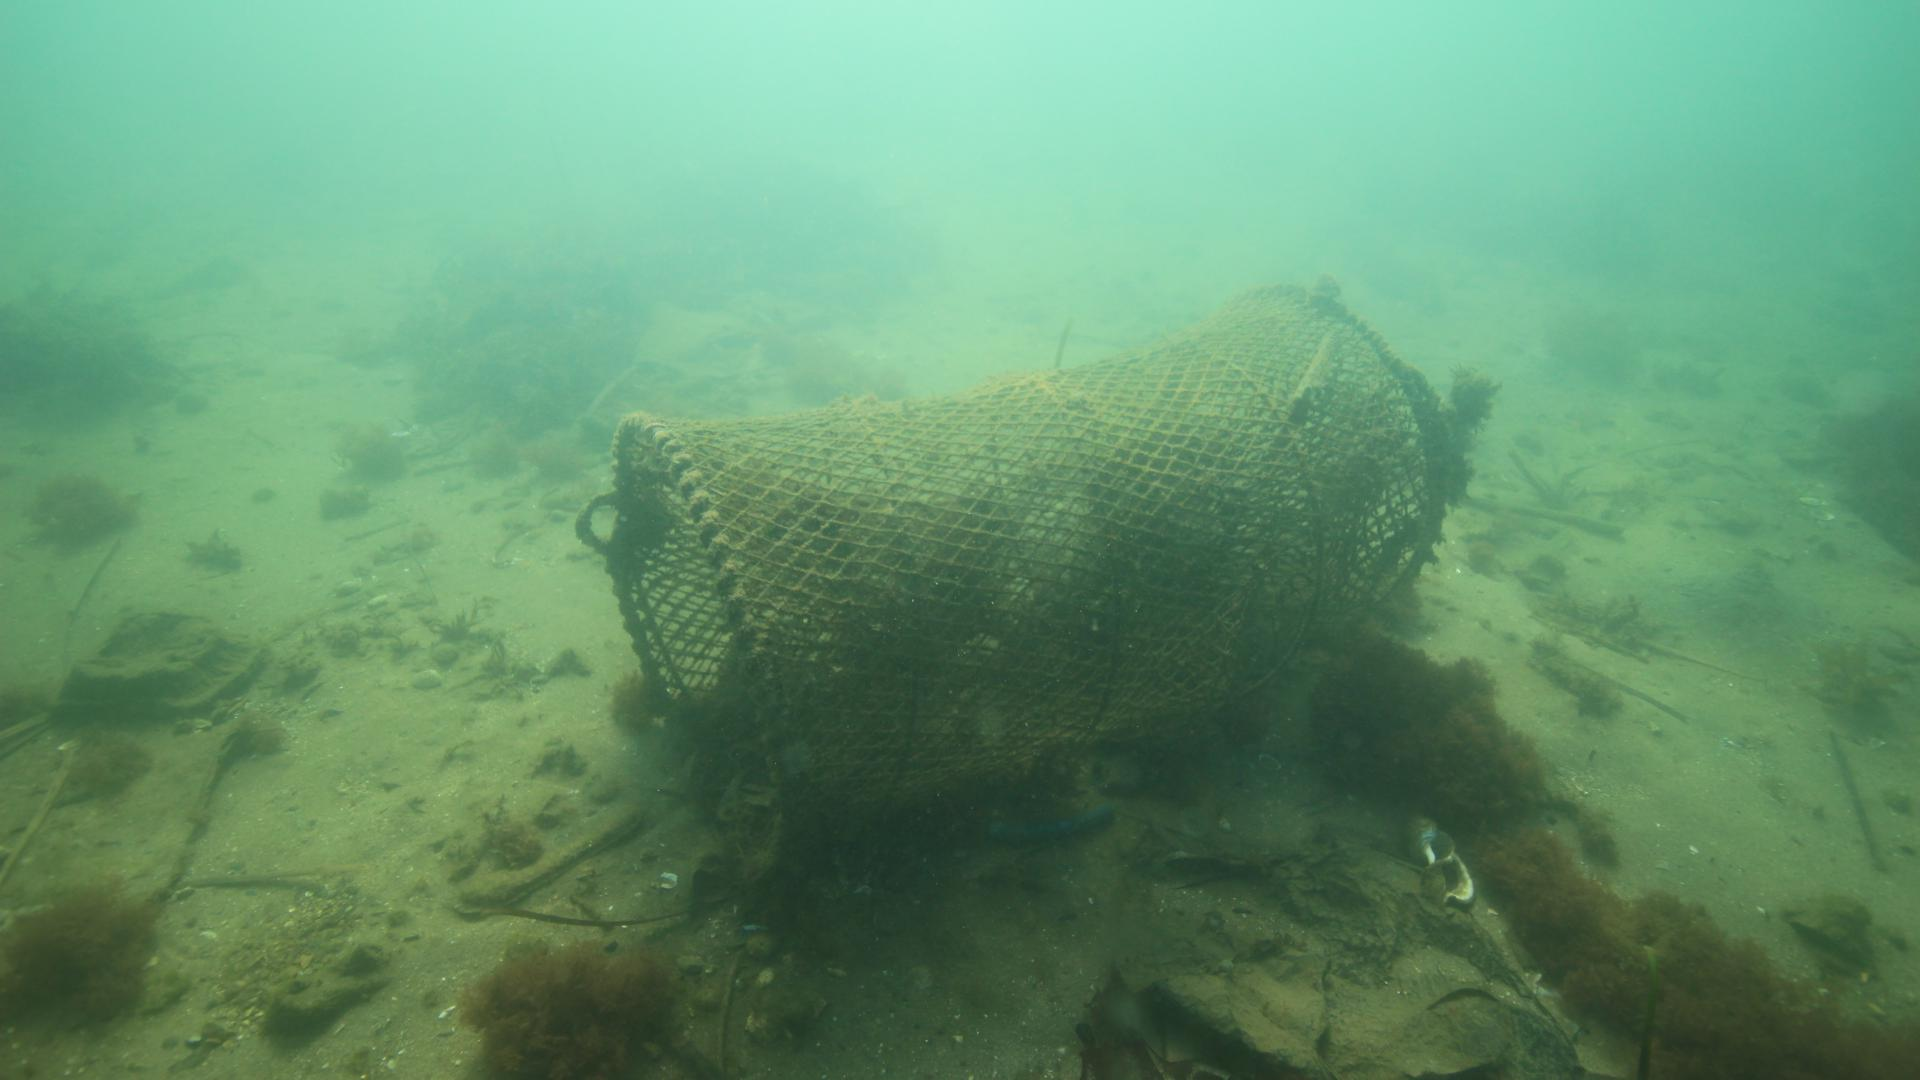spring fish trap: (607, 285, 1443, 886)
